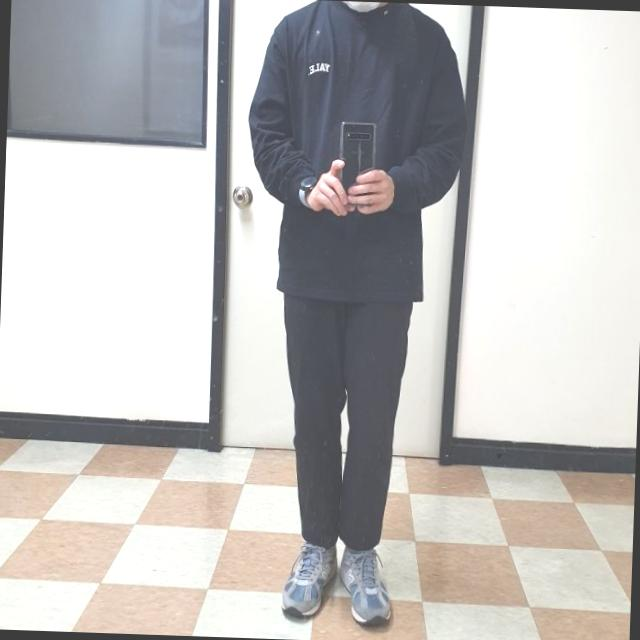mtm: (242, 0, 467, 307)
slacks: (274, 296, 408, 554)
